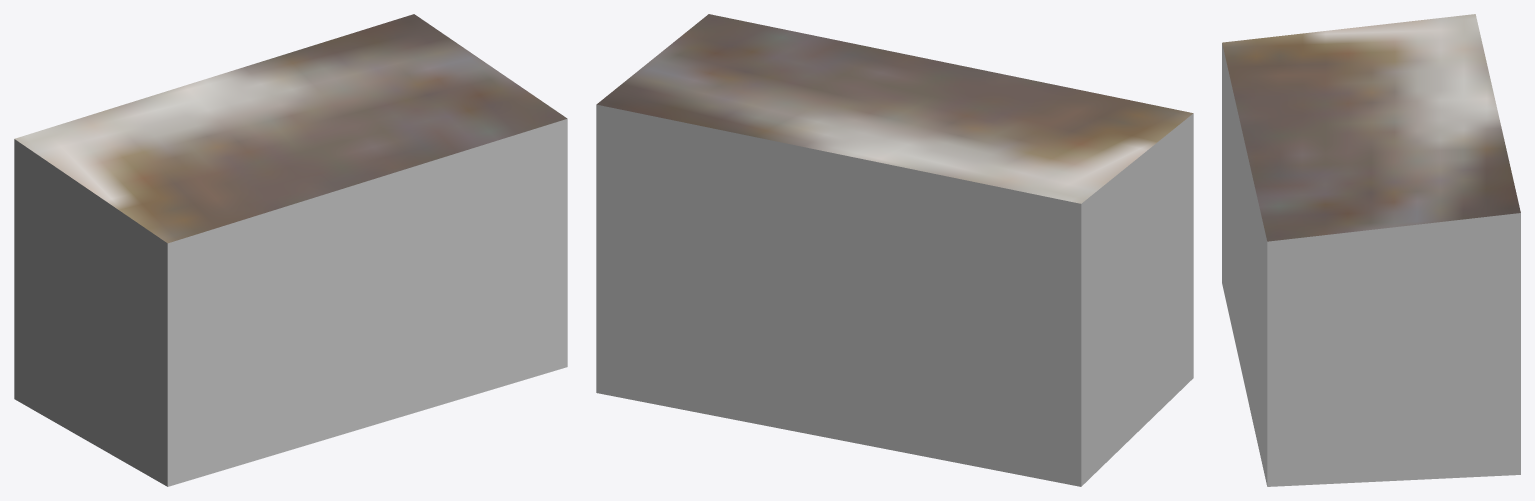
The model's file is DEBW_0010007Tx95.gltf.
The picture shows the model from 3 angles, left to right: view 1: azimuth 30°, elevation 25°; view 2: azimuth 150°, elevation 25°; view 3: azimuth 270°, elevation 25°; orthographic projection. The views are drawn at different scales.
Parts seen in each view (by area): view 1: Z_UP; view 2: Z_UP; view 3: Z_UP.
Boxes of the visible parts, x1=… form: Z_UP: x1=14, y1=14, x2=567, y2=486; Z_UP: x1=596, y1=14, x2=1193, y2=486; Z_UP: x1=1222, y1=14, x2=1520, y2=486.
Bounding box in the file's own units: 4.29 × 2.43 × 2.51.
Materials: 2 (1 with a texture image).
